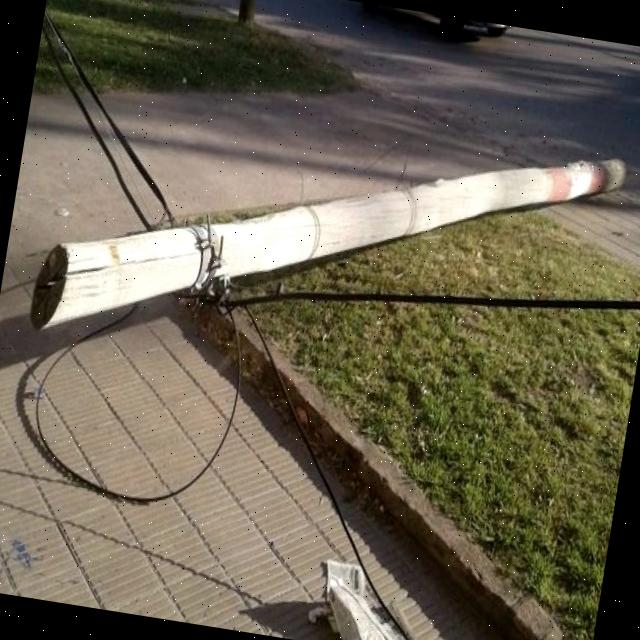Broken Pole: (31, 159, 626, 335)
